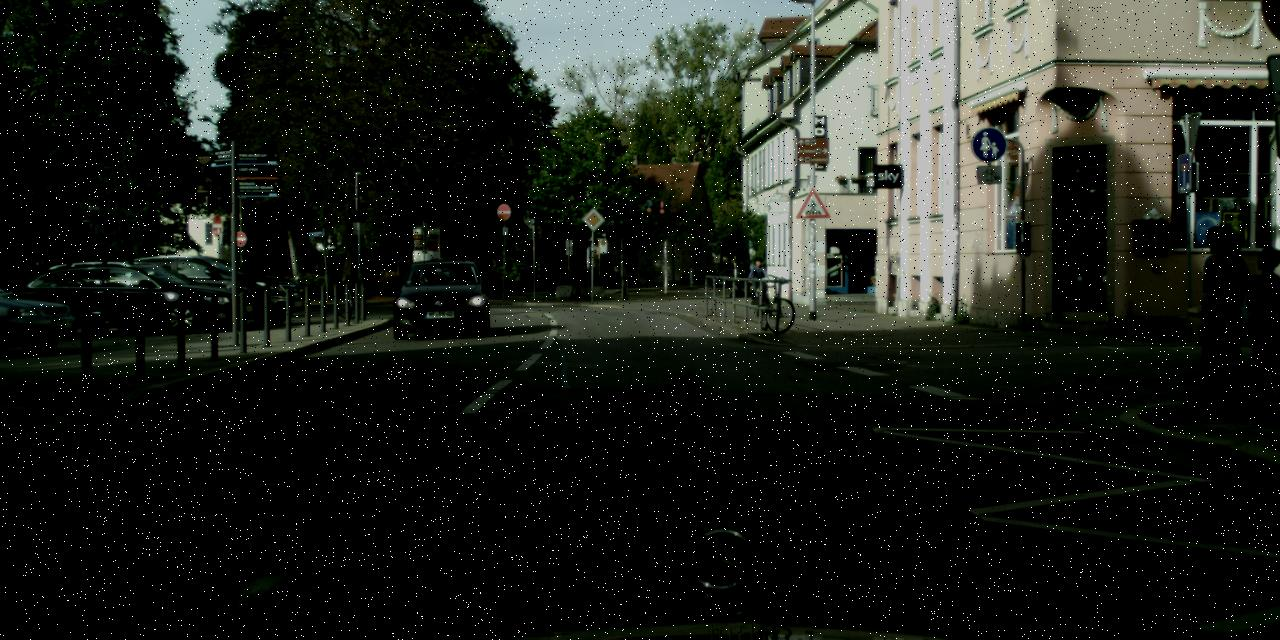ped: (1184, 230, 1254, 404), (1194, 225, 1264, 398), (1234, 245, 1279, 399), (749, 256, 769, 306)
